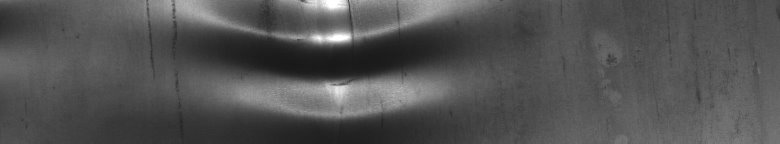ke: (173, 4, 415, 124)
